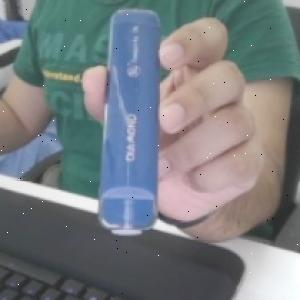Diamond-E-Ciggirate: (97, 6, 163, 239)
